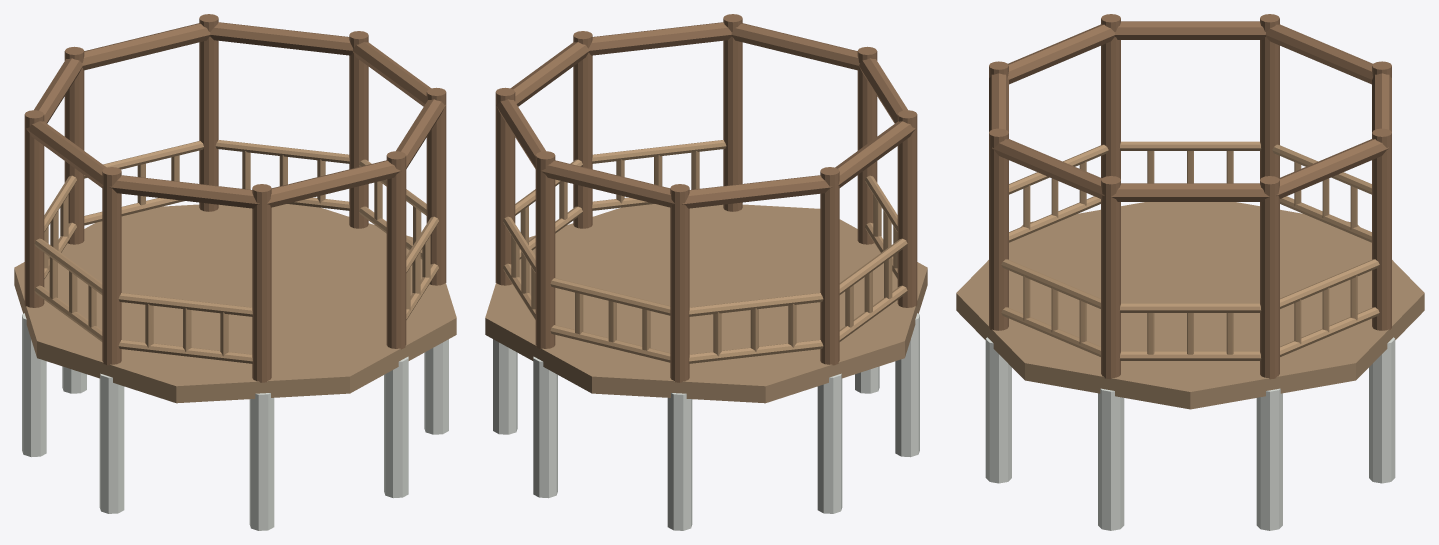
File: structure.glb
3 views of the same model, side by side, from view 1: azimuth 30°, elevation 25°; view 2: azimuth 150°, elevation 25°; view 3: azimuth 270°, elevation 25° (orthographic). The views are drawn at different scales.
Visible parts, largest first — view 1: Raised octagonal floor, Timber column 06, Timber column 05, Timber column 04, Timber column 03, Stone support 05, Stone support 04, Stone support 06, Timber column 01, Timber column 07, Timber column 00, Stone support 03 (+20 smaller); view 2: Raised octagonal floor, Timber column 01, Timber column 02, Timber column 03, Timber column 04, Stone support 02, Stone support 03, Timber column 06, Stone support 01, Timber column 00, Timber column 07, Stone support 04 (+20 smaller); view 3: Raised octagonal floor, Timber column 00, Timber column 07, Timber column 01, Timber column 06, Stone support 00, Stone support 07, Stone support 01, Stone support 06, Timber column 03, Timber column 04, Upper connecting beam.007 (+18 smaller).
Part boxes in pixels (box(x1,y1,x2,y2)): Raised octagonal floor: box(14, 204, 456, 403); Timber column 06: box(386, 151, 406, 349); Timber column 05: box(252, 184, 271, 382); Timber column 04: box(102, 167, 121, 365); Timber column 03: box(24, 110, 44, 307); Stone support 05: box(249, 393, 274, 530); Stone support 04: box(99, 373, 124, 513); Stone support 06: box(384, 356, 408, 498); Timber column 01: box(199, 14, 218, 211); Timber column 07: box(426, 87, 446, 285); Timber column 00: box(349, 31, 368, 228); Stone support 03: box(22, 313, 46, 457); Raised octagonal floor: box(485, 204, 927, 403); Timber column 01: box(535, 151, 555, 349); Timber column 02: box(670, 184, 689, 382); Timber column 03: box(820, 167, 839, 365); Timber column 04: box(897, 110, 917, 307); Stone support 02: box(667, 393, 692, 530); Stone support 03: box(817, 373, 842, 513); Timber column 06: box(723, 14, 742, 211); Stone support 01: box(533, 356, 557, 498); Timber column 00: box(495, 87, 515, 285); Timber column 07: box(573, 31, 592, 228); Stone support 04: box(895, 313, 919, 457); Raised octagonal floor: box(956, 202, 1424, 409); Timber column 00: box(1260, 176, 1279, 379); Timber column 07: box(1101, 176, 1120, 379); Timber column 01: box(1372, 128, 1391, 330); Timber column 06: box(989, 128, 1008, 330); Stone support 00: box(1256, 388, 1282, 530); Stone support 07: box(1098, 388, 1124, 530); Stone support 01: box(1369, 337, 1395, 483); Stone support 06: box(985, 337, 1011, 483); Timber column 03: box(1260, 14, 1279, 179); Timber column 04: box(1101, 14, 1120, 179); Upper connecting beam.007: box(1111, 183, 1269, 201).
Size of the model in its own units: 6.1 by 4.96 by 6.1.
